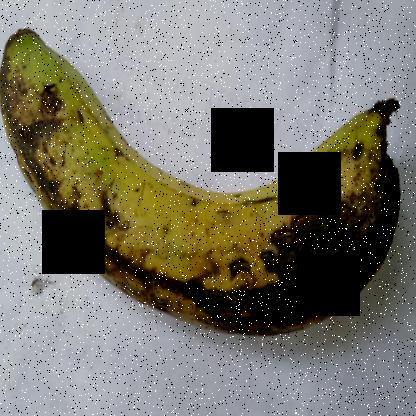rotten: (6, 89, 412, 354)
